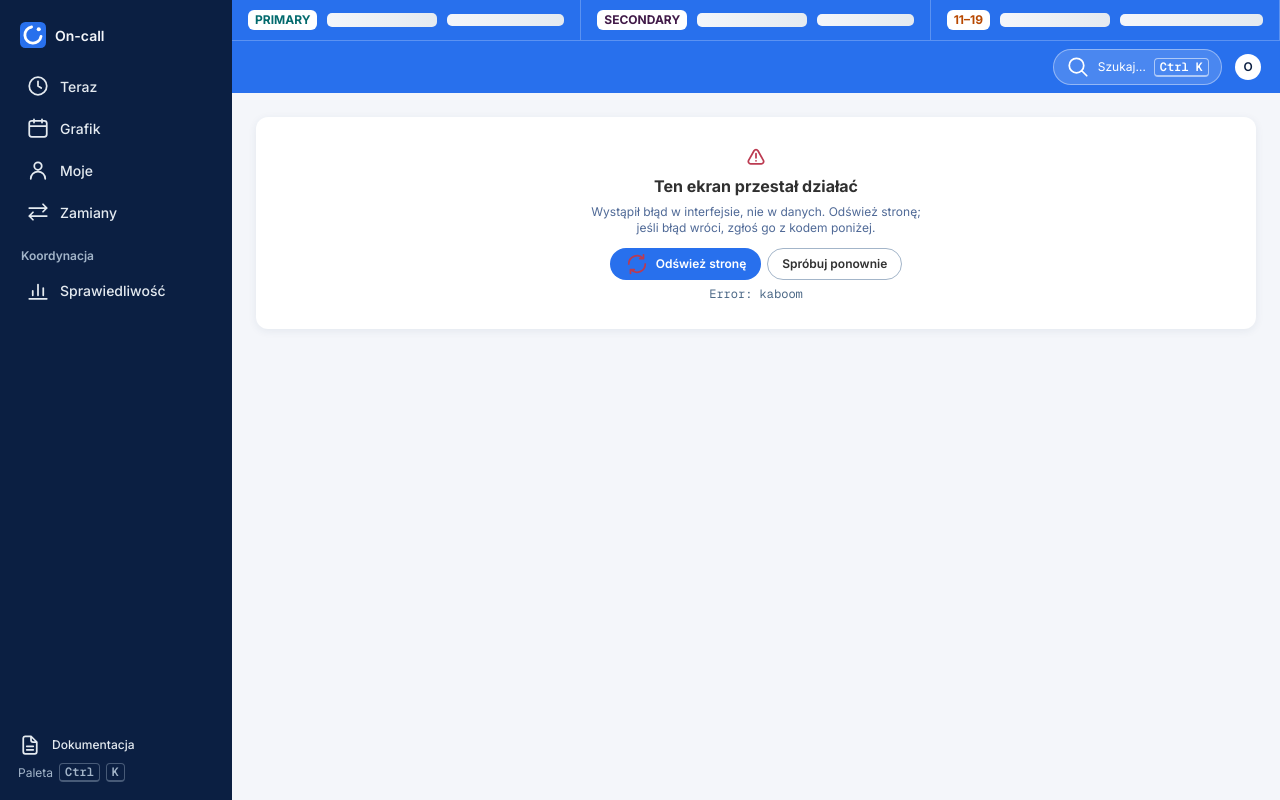
AppShell error boundary › renders the next screen after navigating away from one that threw
Check: the message shows "Ten ekran przestał działać", box [654, 176, 858, 196]
Click the link "Teraz" at coordinates (62, 86), box [26, 74, 97, 98]
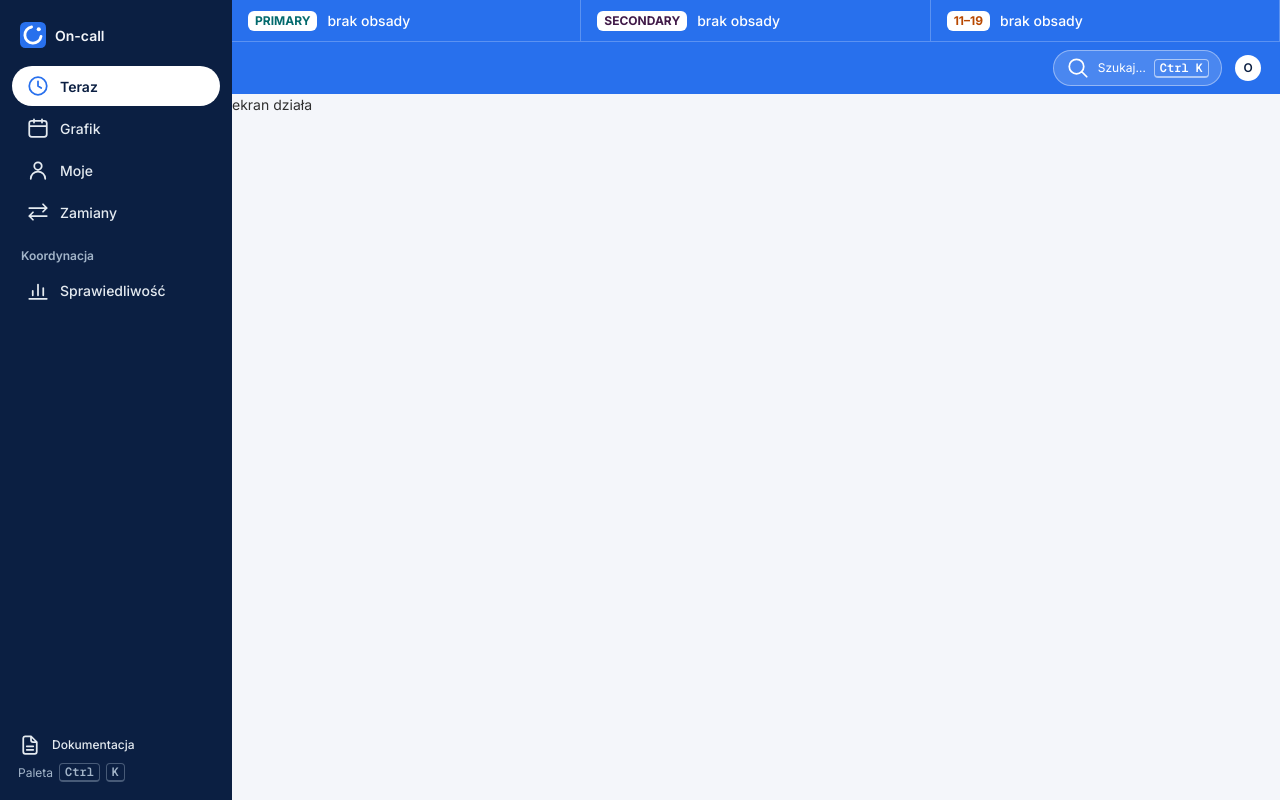
Check: the text "ekran działa" is shown, box [232, 96, 312, 113]
Check: the message is gone
